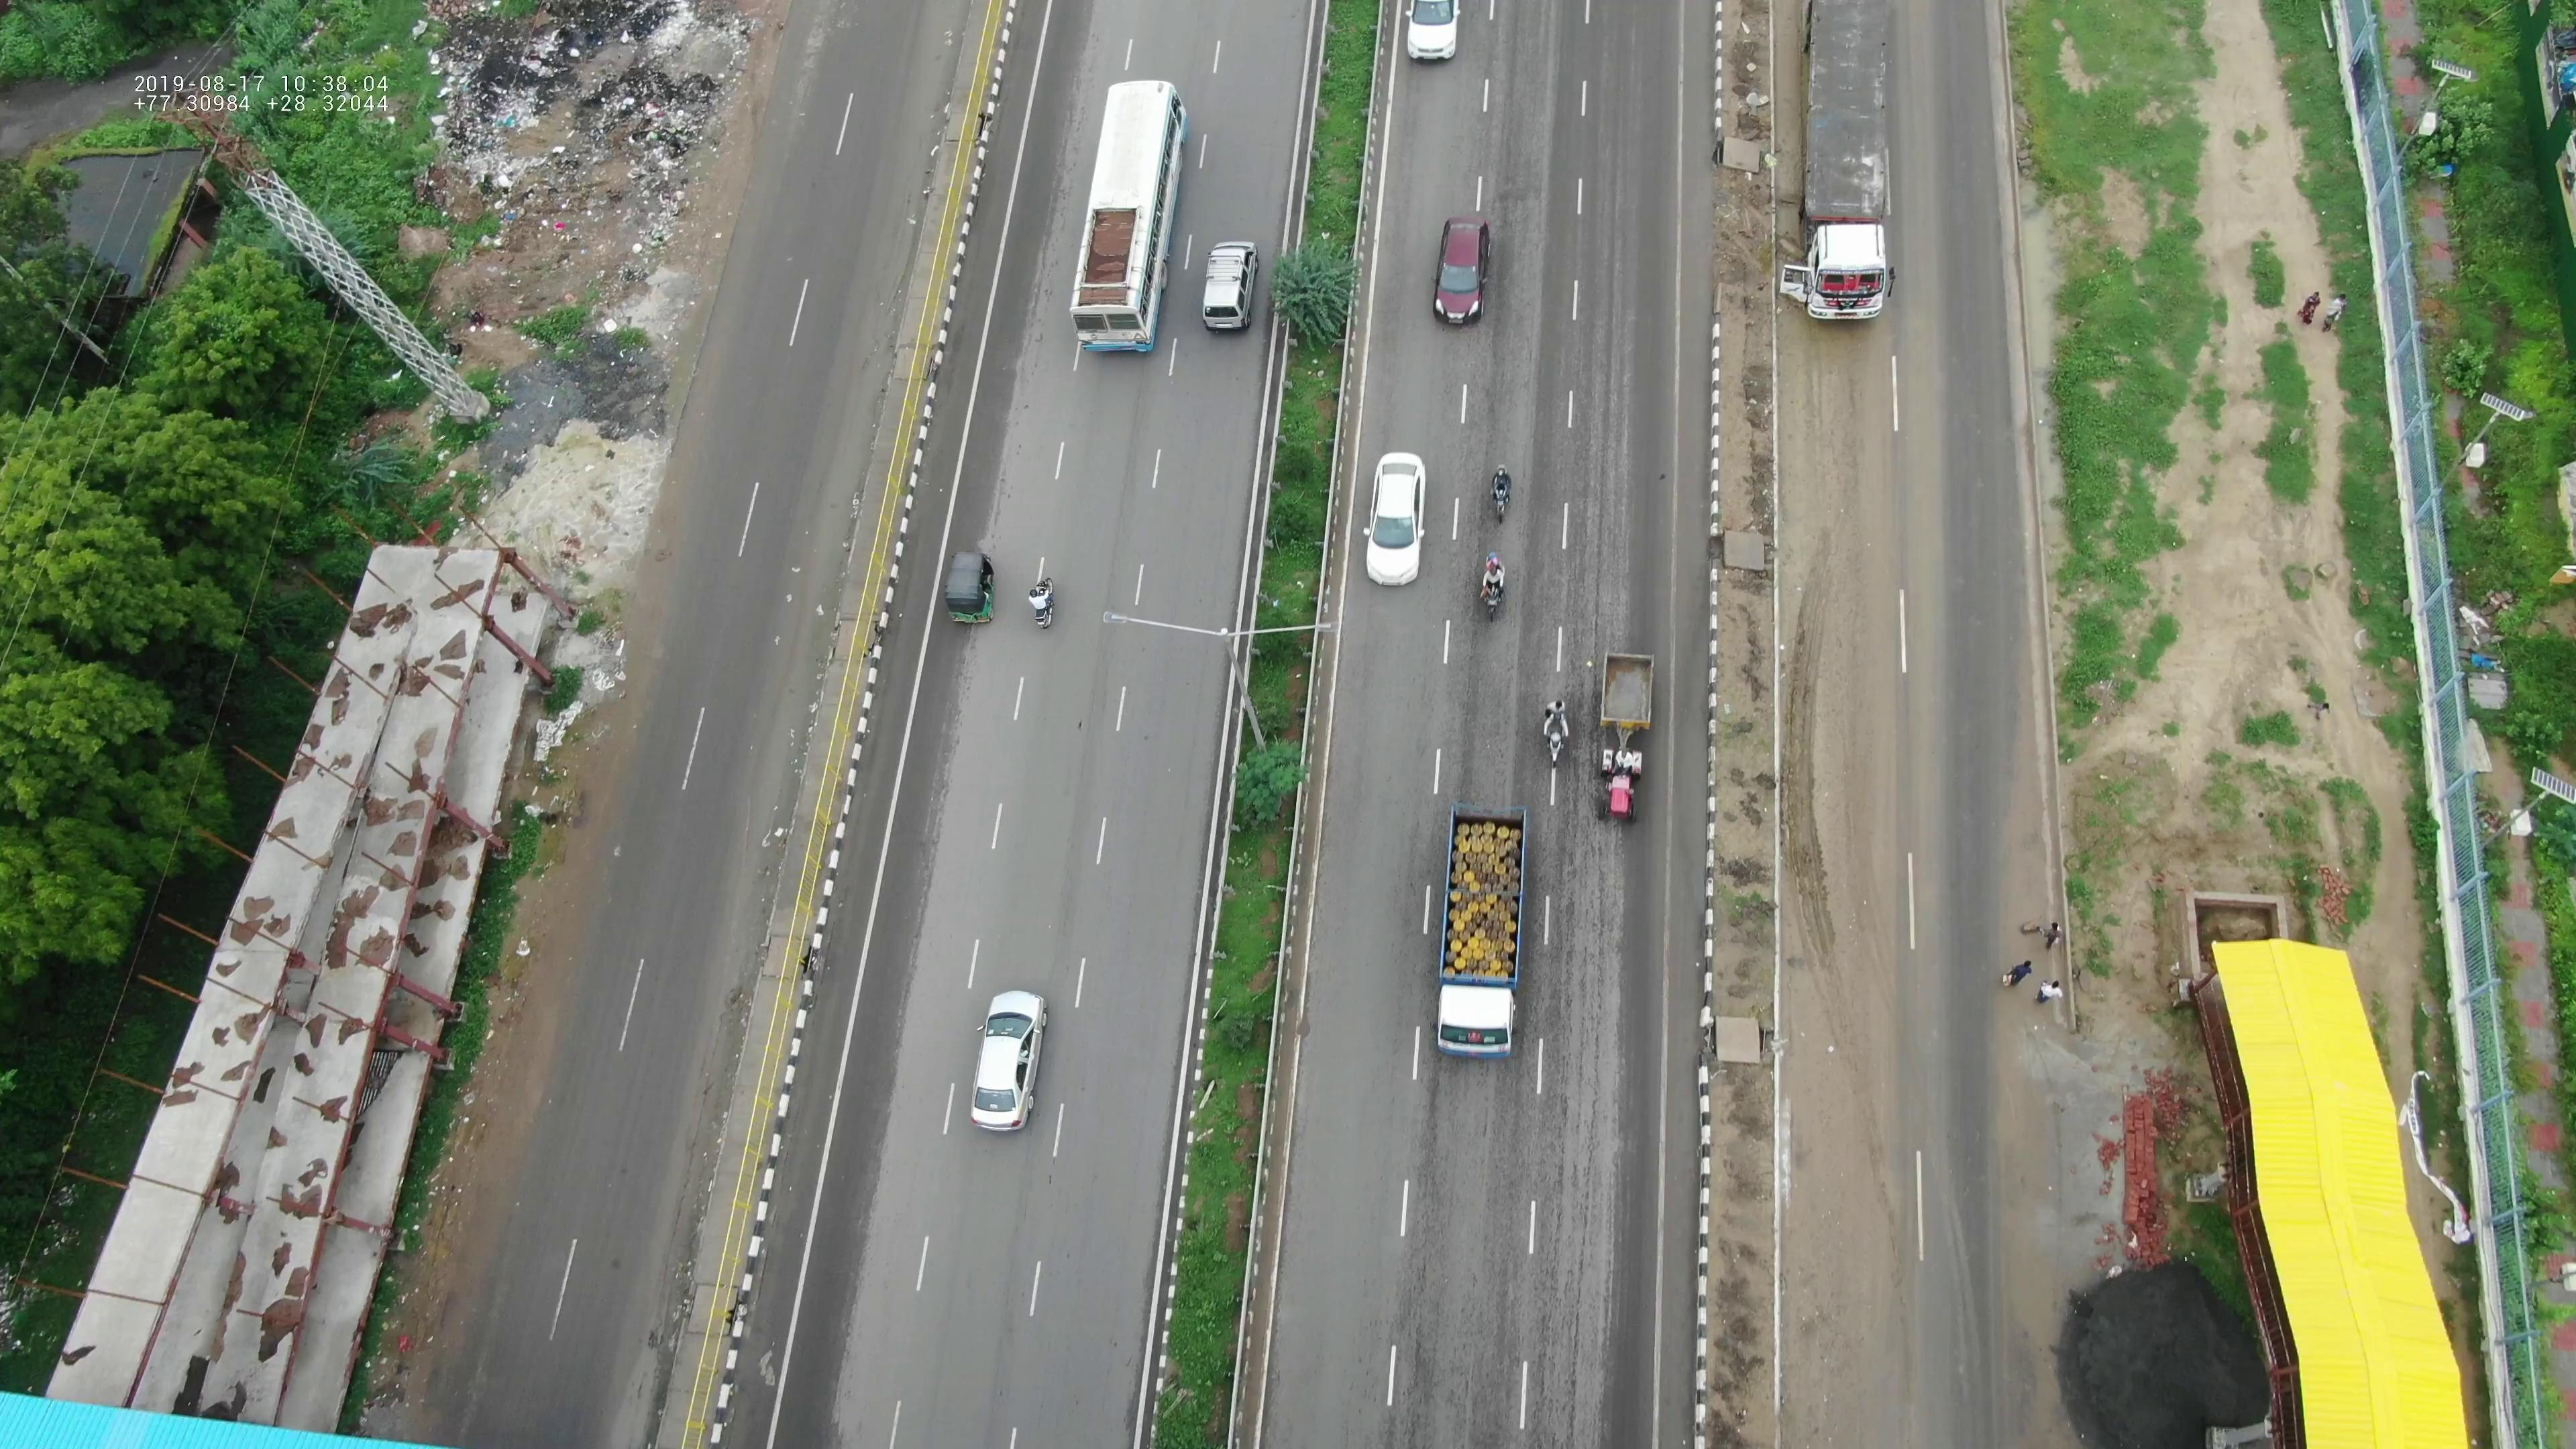Muddy_road: (1792, 695, 1918, 1053), (1776, 331, 1904, 674), (1789, 1063, 1898, 1378)
Ravelling: (1504, 1108, 1626, 1408), (1534, 338, 1644, 665), (1382, 1196, 1484, 1430), (1491, 58, 1568, 334), (1546, 824, 1615, 1040)
